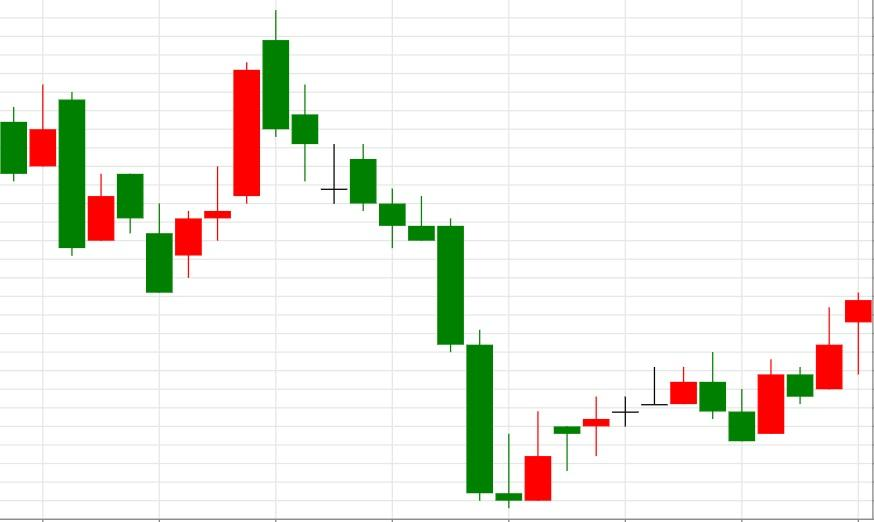morning_star_rise: (263, 9, 552, 509)
